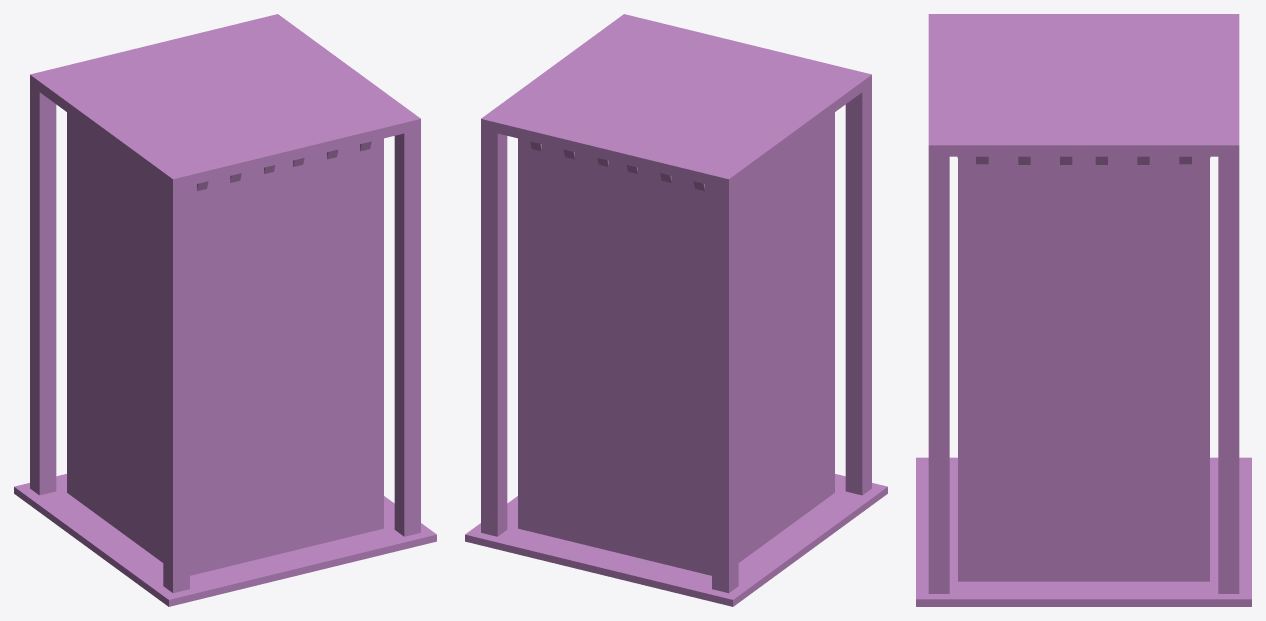
File: Tower2_Mid_A.fbx
3 renders of one model, left to right at view 1: azimuth 30°, elevation 25°; view 2: azimuth 150°, elevation 25°; view 3: azimuth 270°, elevation 25°, orthographic. The views are drawn at different scales.
Parts seen in each view (by area): view 1: Tower2_Mid_A; view 2: Tower2_Mid_A; view 3: Tower2_Mid_A.
Part boxes in pixels (box(x1,y1,x2,y2)): Tower2_Mid_A: box(14, 14, 436, 606); Tower2_Mid_A: box(465, 14, 887, 606); Tower2_Mid_A: box(916, 14, 1251, 606).
Size of the model in its own units: 600 by 900 by 600.
